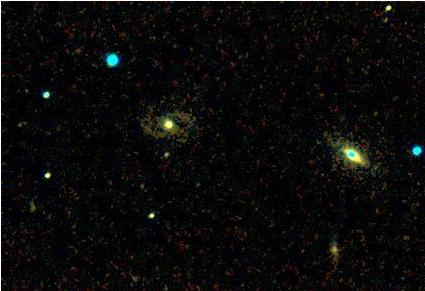star: (151, 137, 181, 167)
